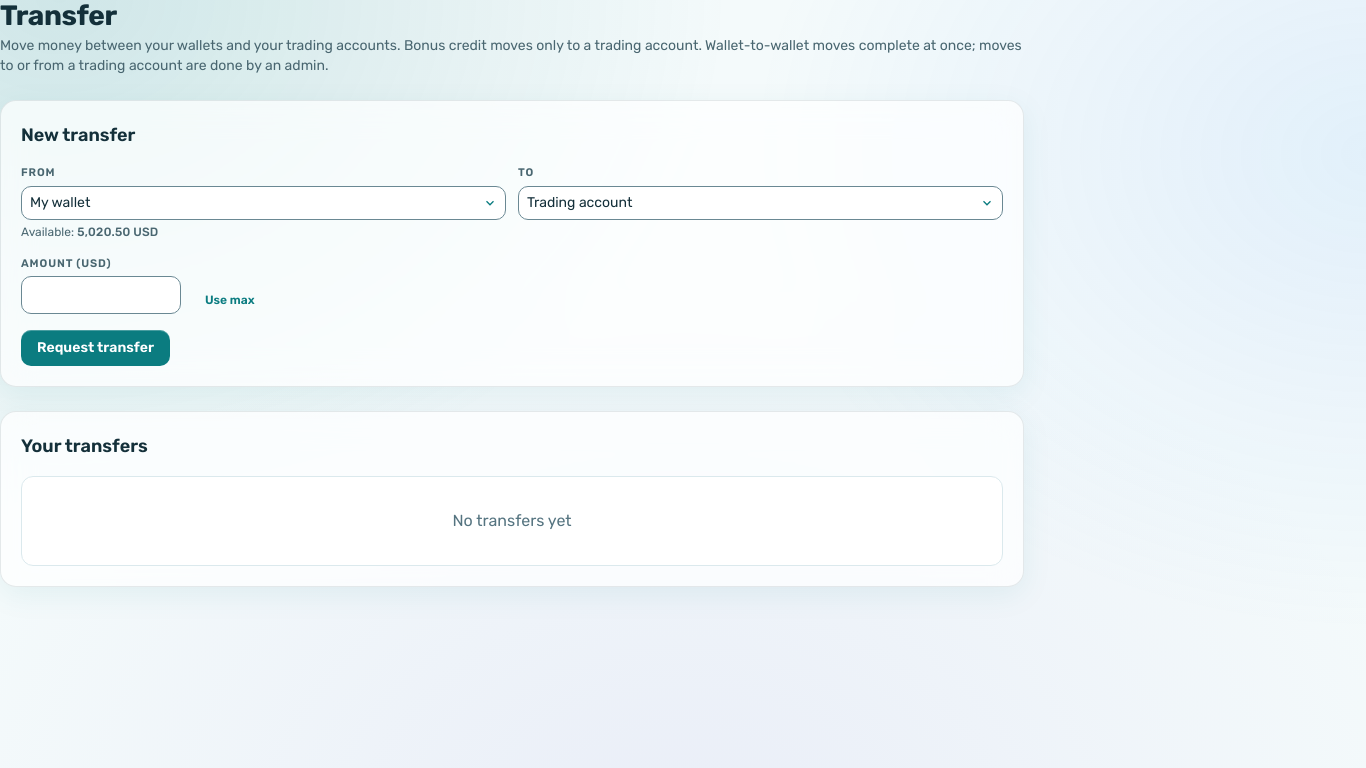
Test: a wrong MPIN stays in the dialog with the tries left
Type "10" into the field named "Amount in USD". click: (101, 295)
box: left=21, top=276, right=181, bottom=314
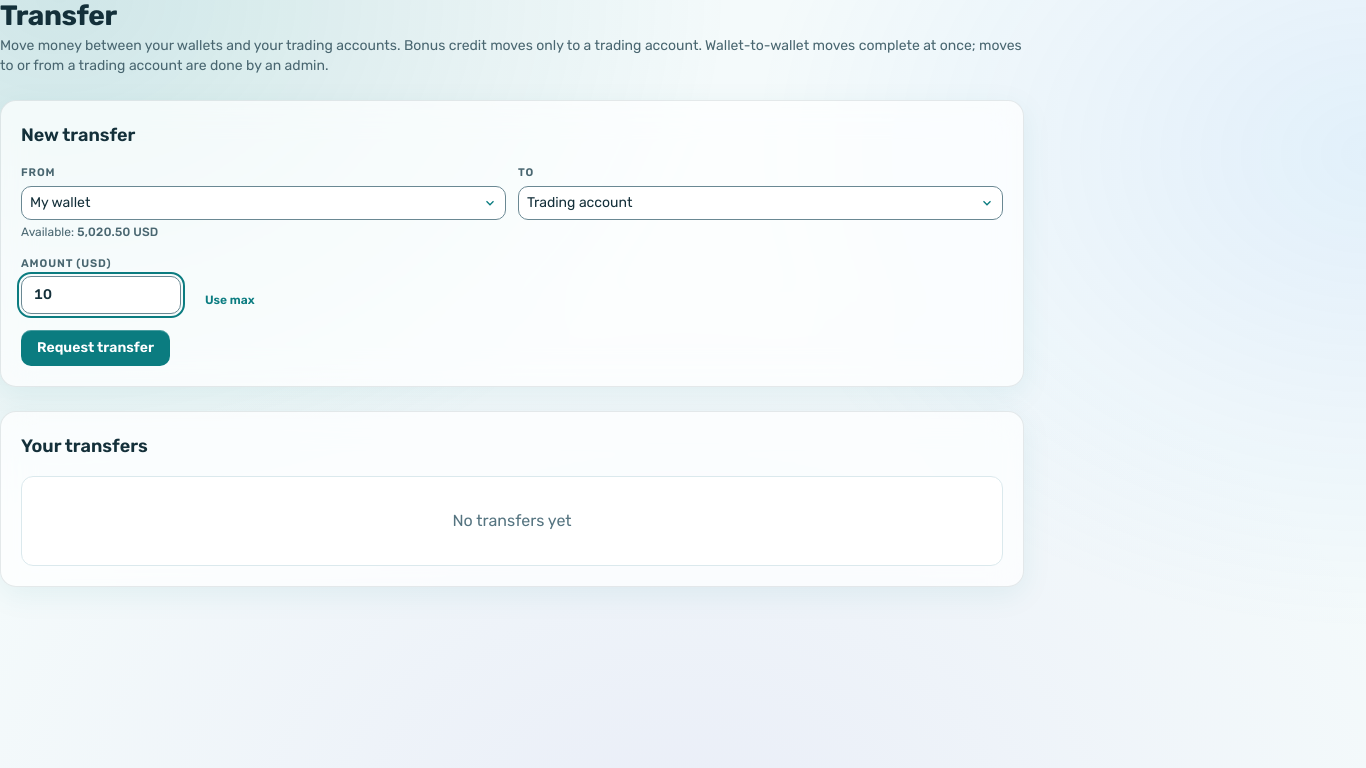
Click the button "Request transfer". click: (96, 348)
box: left=21, top=330, right=170, bottom=366
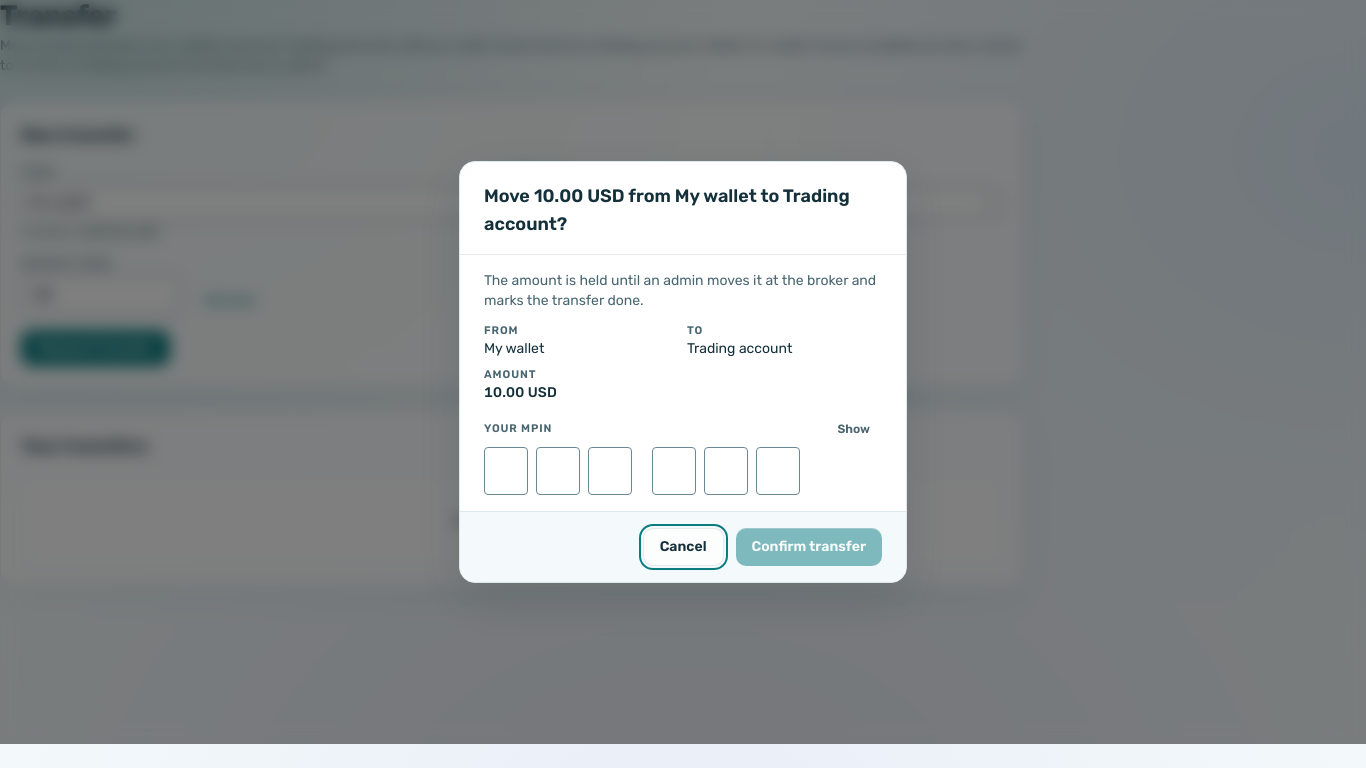
Click the password field named "Your MPIN digit 1 of 6". click: (506, 471)
box: left=484, top=447, right=528, bottom=495
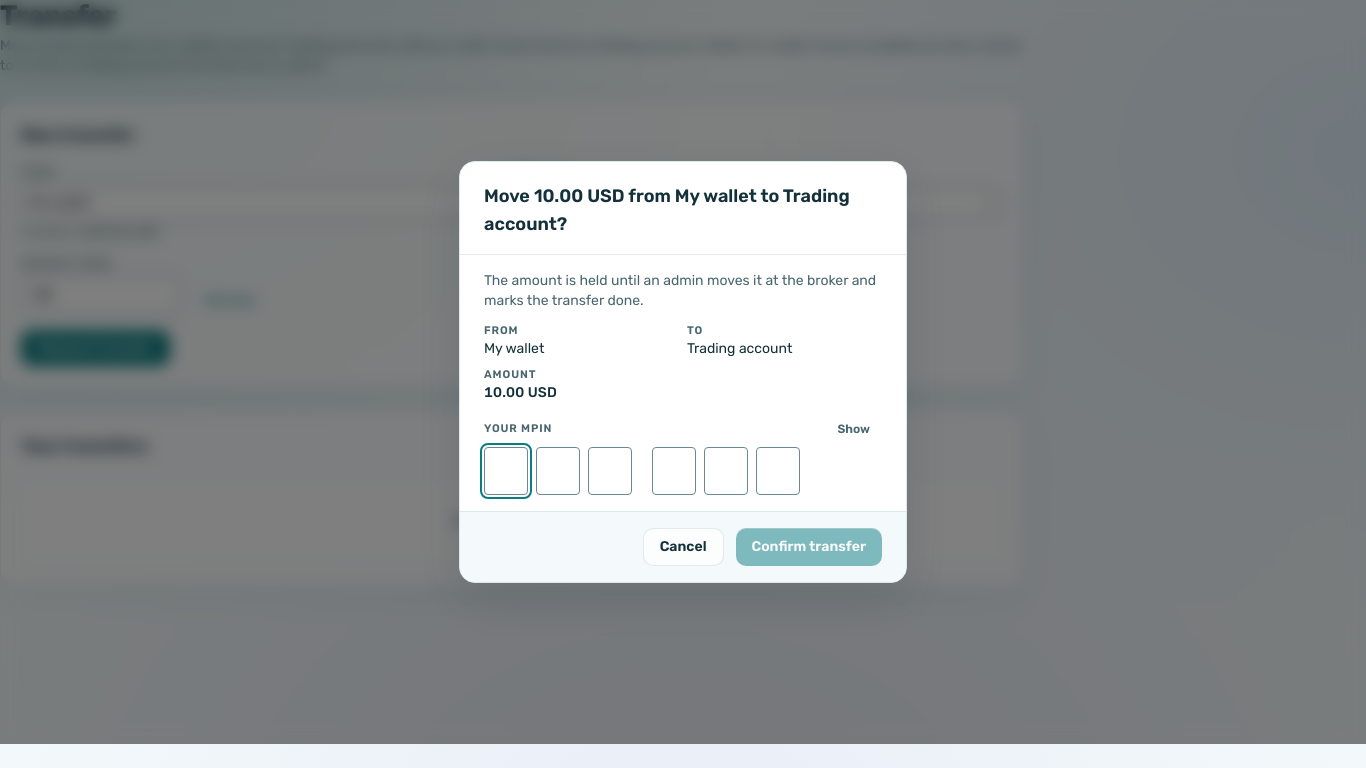
Type keys "111111"
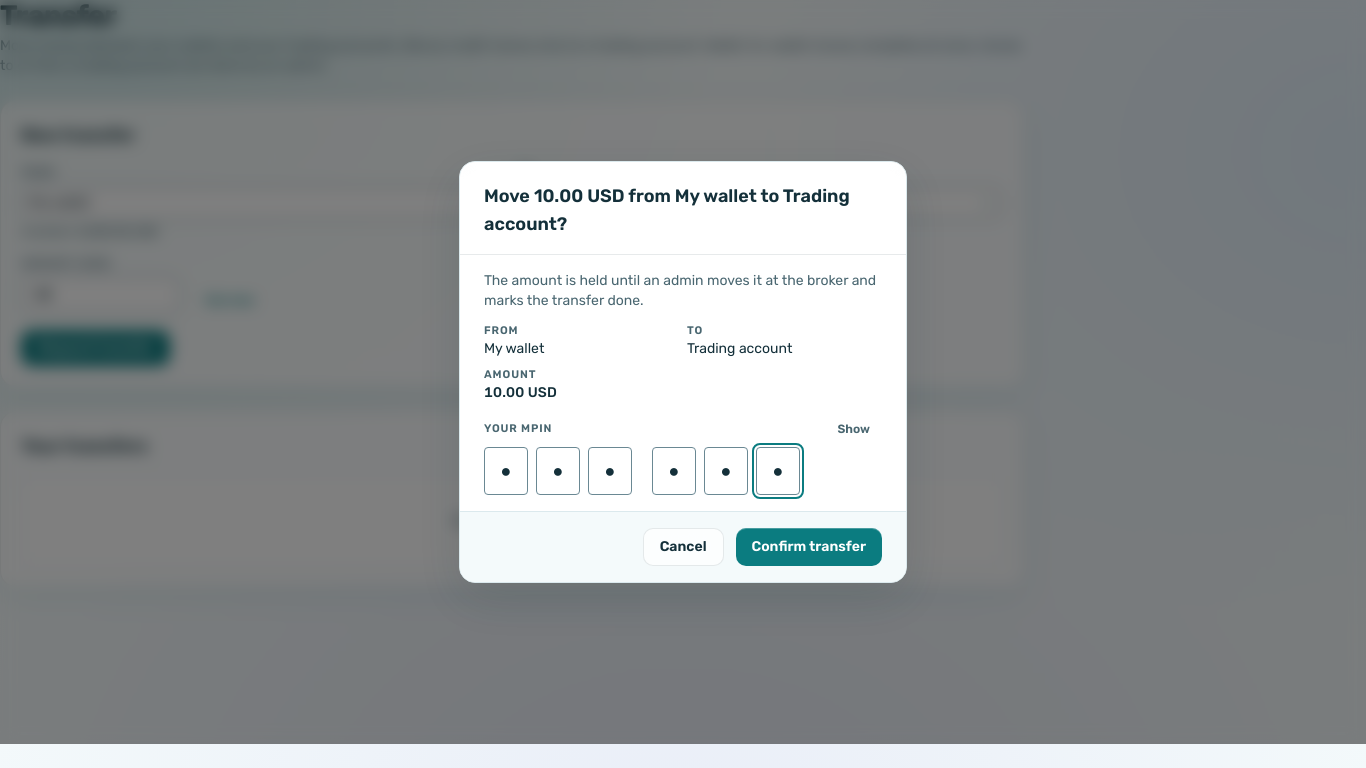
Click the button "Confirm transfer". click: (809, 547)
box: left=736, top=528, right=882, bottom=566
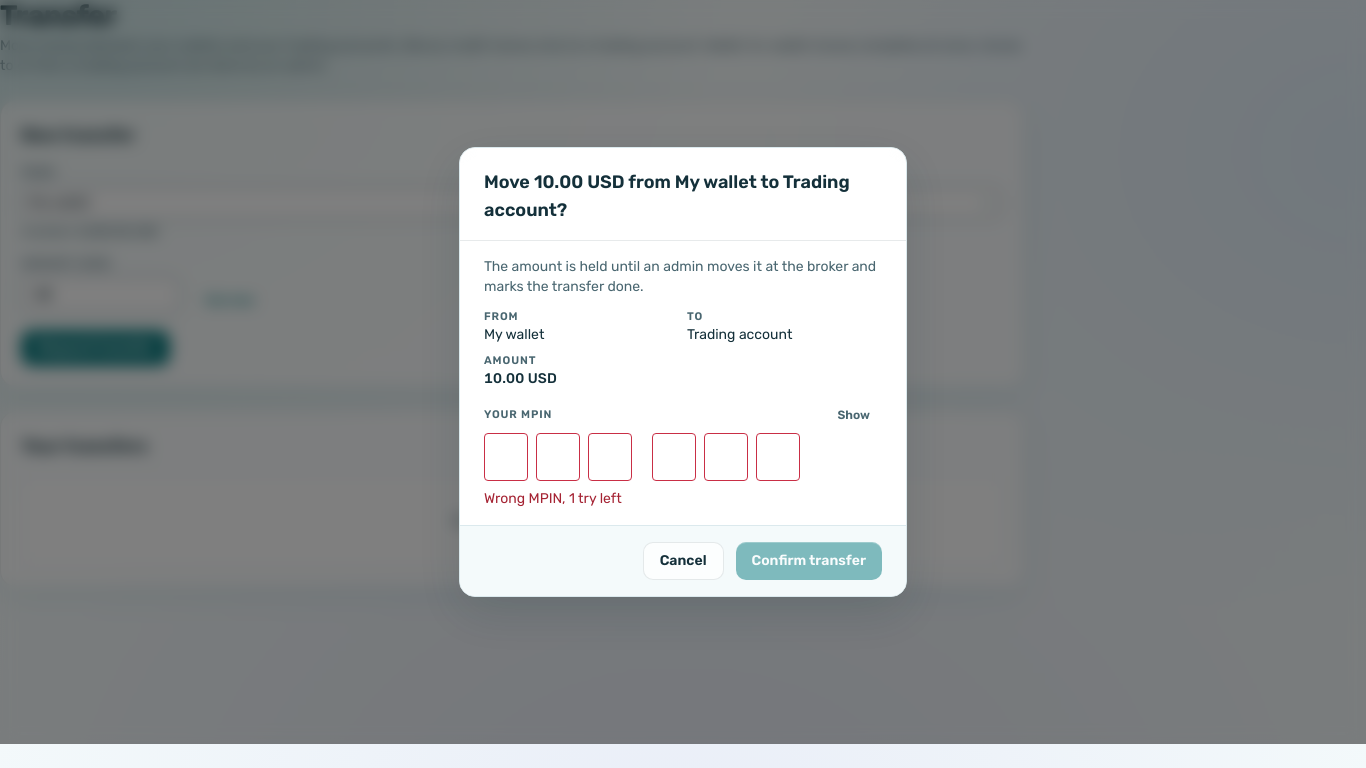
Result: the dialog is shown
Result: the text "Wrong MPIN, 1 try left" is shown at left=484, top=490, right=622, bottom=507
